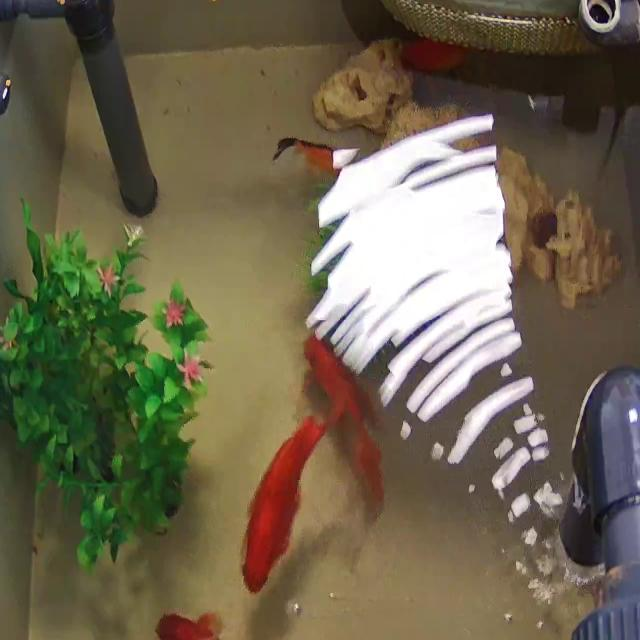fish: (242, 415, 329, 594), (312, 331, 378, 506), (133, 597, 273, 640), (272, 135, 340, 178), (402, 38, 468, 72)
